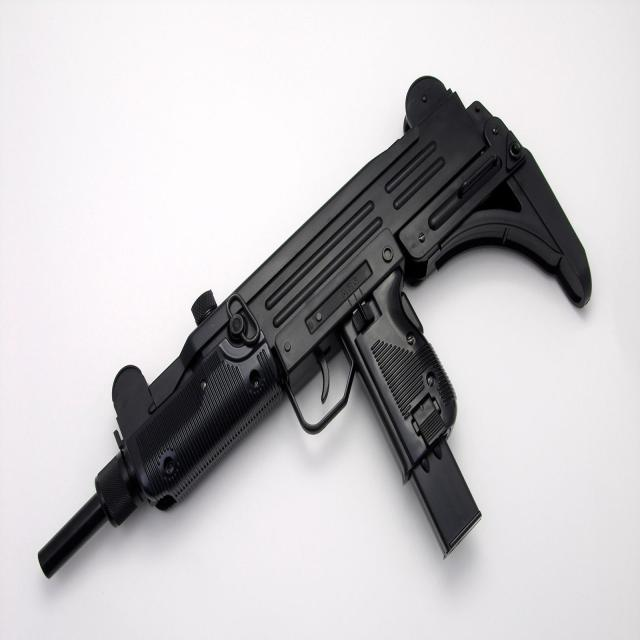SMG: (36, 76, 594, 581)
